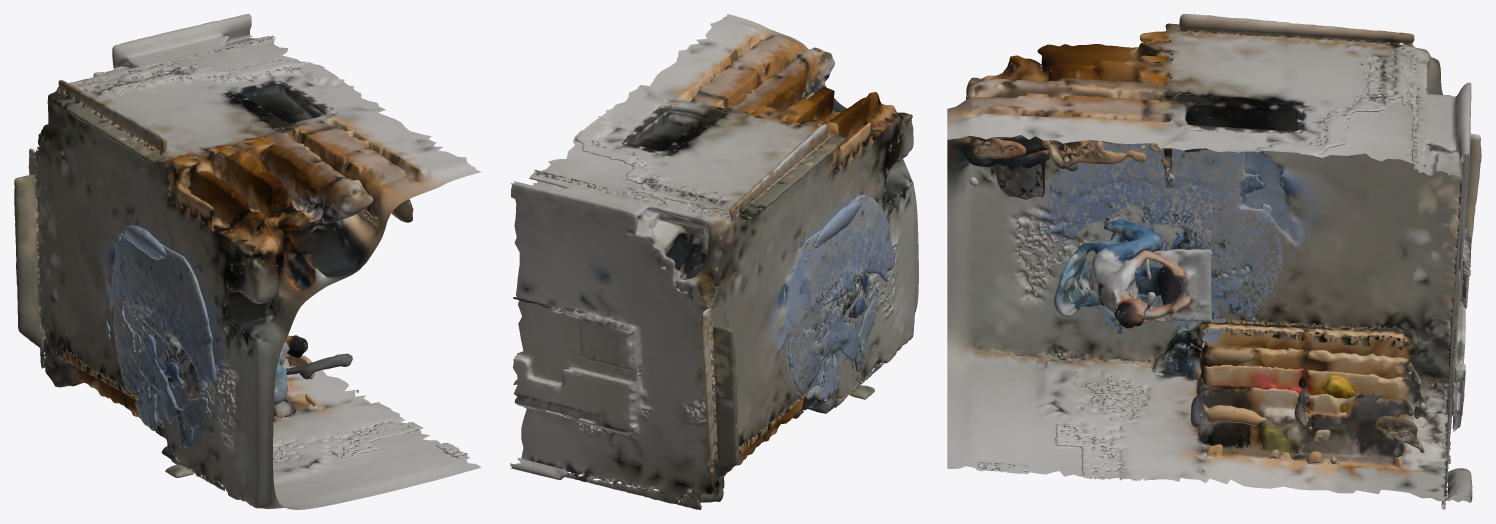
3 renders of one model, left to right at view 1: azimuth 30°, elevation 25°; view 2: azimuth 150°, elevation 25°; view 3: azimuth 270°, elevation 25°, orthographic. The views are drawn at different scales.
Visible parts, largest first — view 1: answering_questions_83; view 2: answering_questions_83; view 3: answering_questions_83.
Part boxes in pixels (<box>): answering_questions_83: <box>14,14,481,509</box>; answering_questions_83: <box>510,14,918,509</box>; answering_questions_83: <box>947,14,1481,509</box>.
Size of the model in its own units: 2.38 by 3.23 by 4.11.
Materials: 1 (1 with a texture image).
